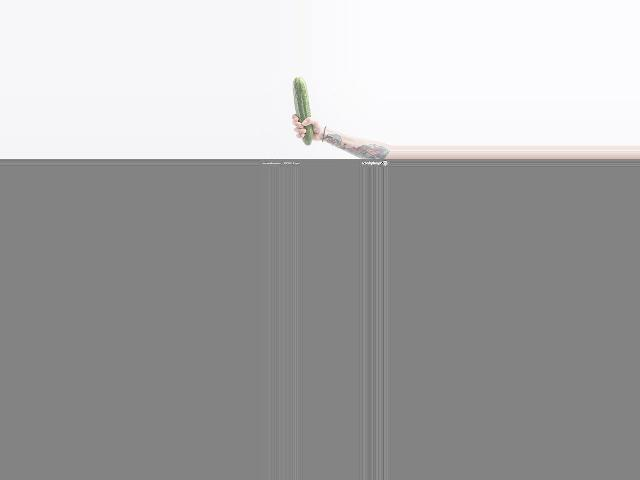cucumber: (292, 76, 312, 145)
